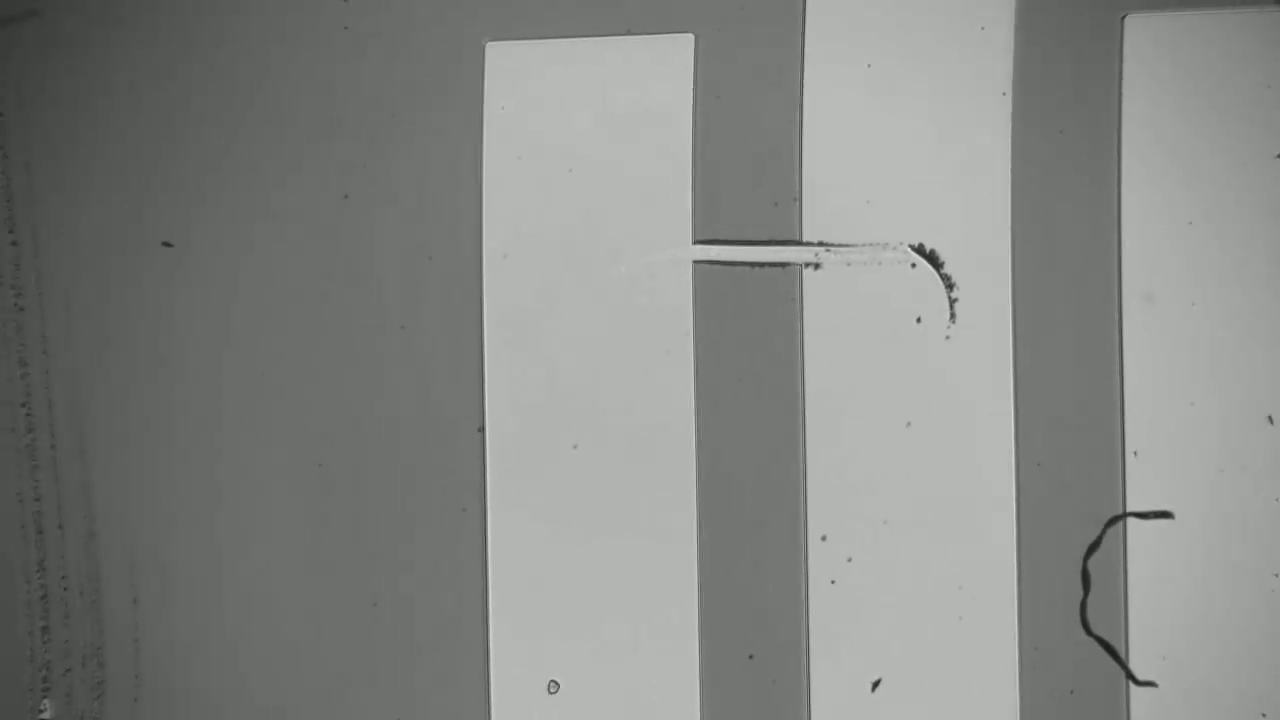Short_circuit: (664, 214, 849, 298)
